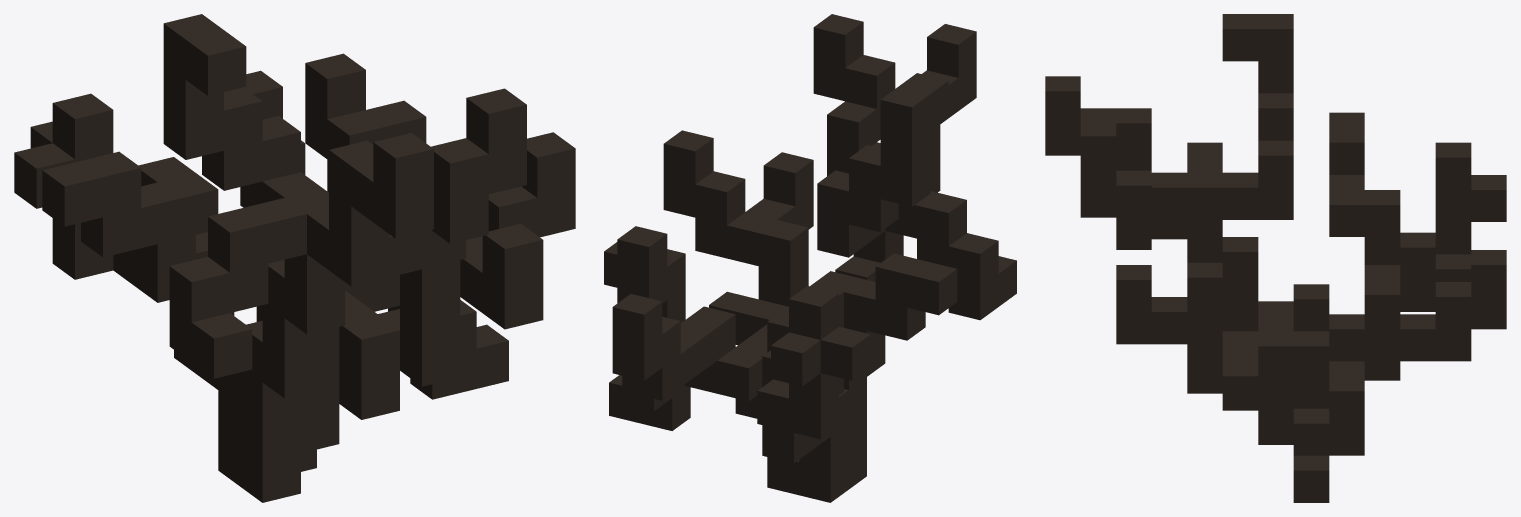
File: DeadBush.obj
3 renders of one model, left to right at view 1: azimuth 30°, elevation 25°; view 2: azimuth 150°, elevation 25°; view 3: azimuth 270°, elevation 25°, orthographic. The views are drawn at different scales.
Size of the model in its own units: 1.1 by 1.2 by 1.3.
1 material, 1 textured.
